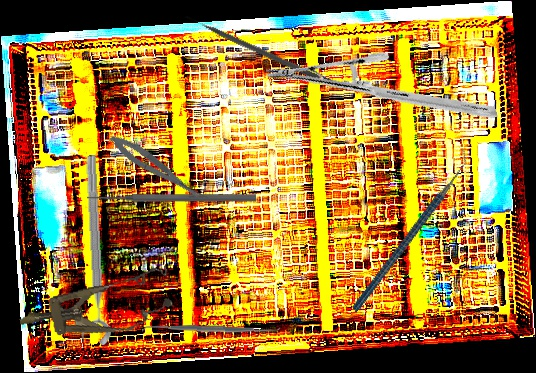Chopper: (313, 147, 506, 313)
Fixation Ring: (70, 154, 112, 347)
Micro Scissor: (105, 128, 212, 211)
Needle Holder: (264, 1, 499, 184)
Pusher: (184, 12, 322, 82), (87, 192, 256, 203)
Spatula Surgical: (141, 318, 281, 340)
Speculum: (14, 263, 177, 351)
